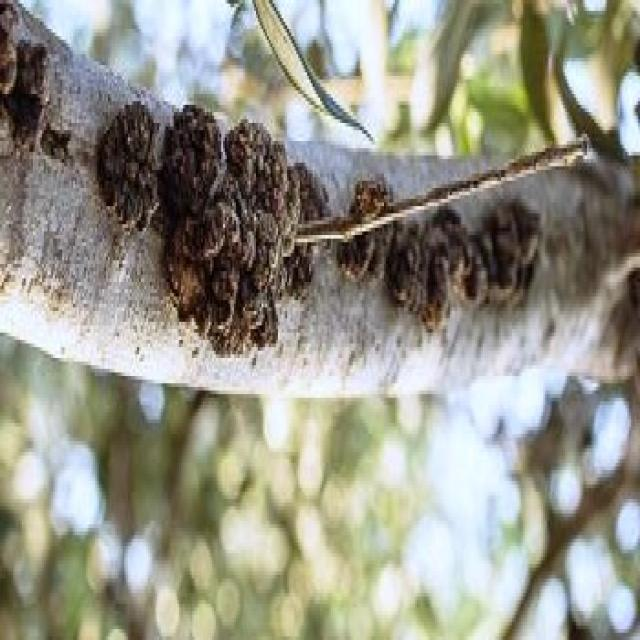Tuberculosis: (165, 105, 325, 351), (338, 192, 539, 329), (99, 87, 163, 235), (353, 174, 395, 217)
